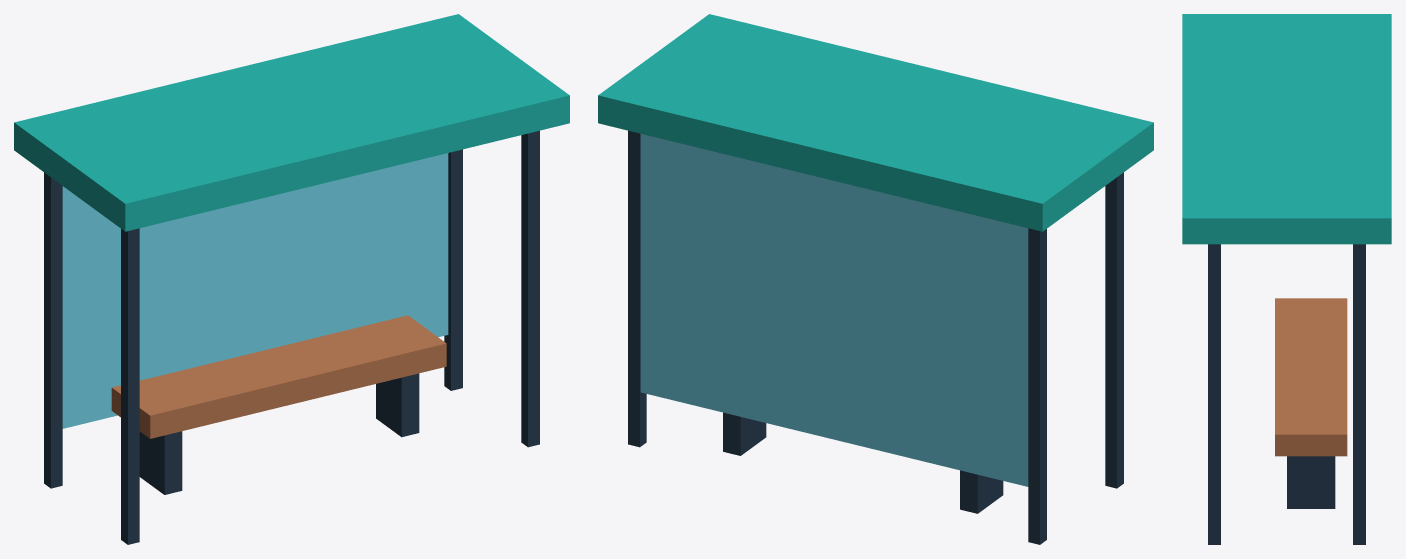
The model's file is 18_bus_shelter.obj.
3 views of the same model, side by side, from view 1: azimuth 30°, elevation 25°; view 2: azimuth 150°, elevation 25°; view 3: azimuth 270°, elevation 25° (orthographic). The views are drawn at different scales.
Parts seen in each view (by area): view 1: part_4, part_5, part_6, part_1, part_3, part_0, part_2, part_7, part_8; view 2: part_5, part_4, part_0, part_1, part_2, part_7, part_8; view 3: part_4, part_6, part_2, part_3, part_8.
Boxes of the visible parts, box(x1,y1,x2,y2) form: part_4: box(14, 14, 569, 231); part_5: box(62, 153, 448, 428); part_6: box(111, 315, 446, 438); part_1: box(121, 228, 139, 544); part_3: box(521, 130, 539, 447); part_0: box(44, 172, 62, 488); part_2: box(444, 149, 462, 390); part_7: box(139, 431, 182, 494); part_8: box(376, 373, 419, 437); part_5: box(640, 134, 1028, 486); part_4: box(598, 14, 1153, 231); part_0: box(1028, 228, 1046, 544); part_1: box(1105, 172, 1123, 488); part_2: box(628, 130, 646, 447); part_7: box(960, 470, 1003, 513); part_8: box(723, 412, 766, 455); part_4: box(1182, 14, 1391, 244); part_6: box(1275, 298, 1347, 456); part_2: box(1353, 244, 1365, 544); part_3: box(1208, 244, 1220, 544); part_8: box(1287, 456, 1335, 508).
Size of the model in its own units: 3 by 2.29 by 1.3.
